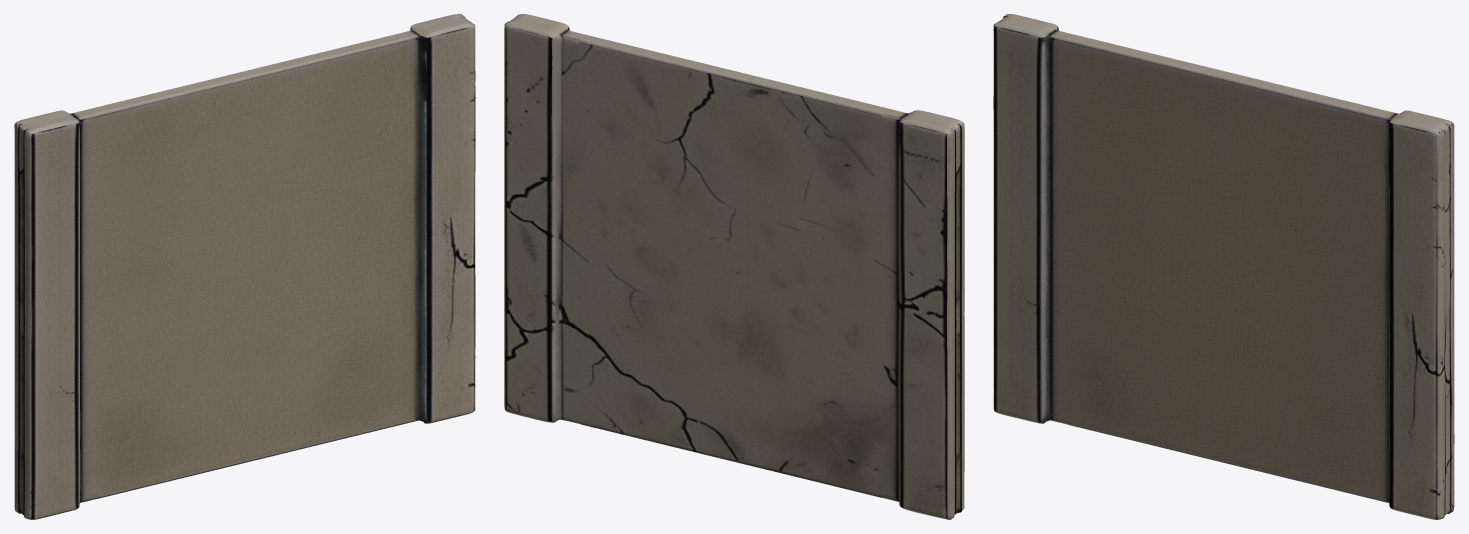
Rendered from Wall-Plaster-1.glb.
3 views of the same model, side by side, from view 1: azimuth 30°, elevation 25°; view 2: azimuth 150°, elevation 25°; view 3: azimuth 330°, elevation 25° (orthographic).
Visible parts, largest first — view 1: tmpweji6j32.ply; view 2: tmpweji6j32.ply; view 3: tmpweji6j32.ply.
Boxes of the visible parts, x1=… form: tmpweji6j32.ply: x1=14, y1=14, x2=475, y2=519; tmpweji6j32.ply: x1=504, y1=14, x2=964, y2=519; tmpweji6j32.ply: x1=993, y1=14, x2=1454, y2=519.
Size of the model in its own units: 3 by 2.5 by 0.2.
Materials: 1 (1 with a texture image).
